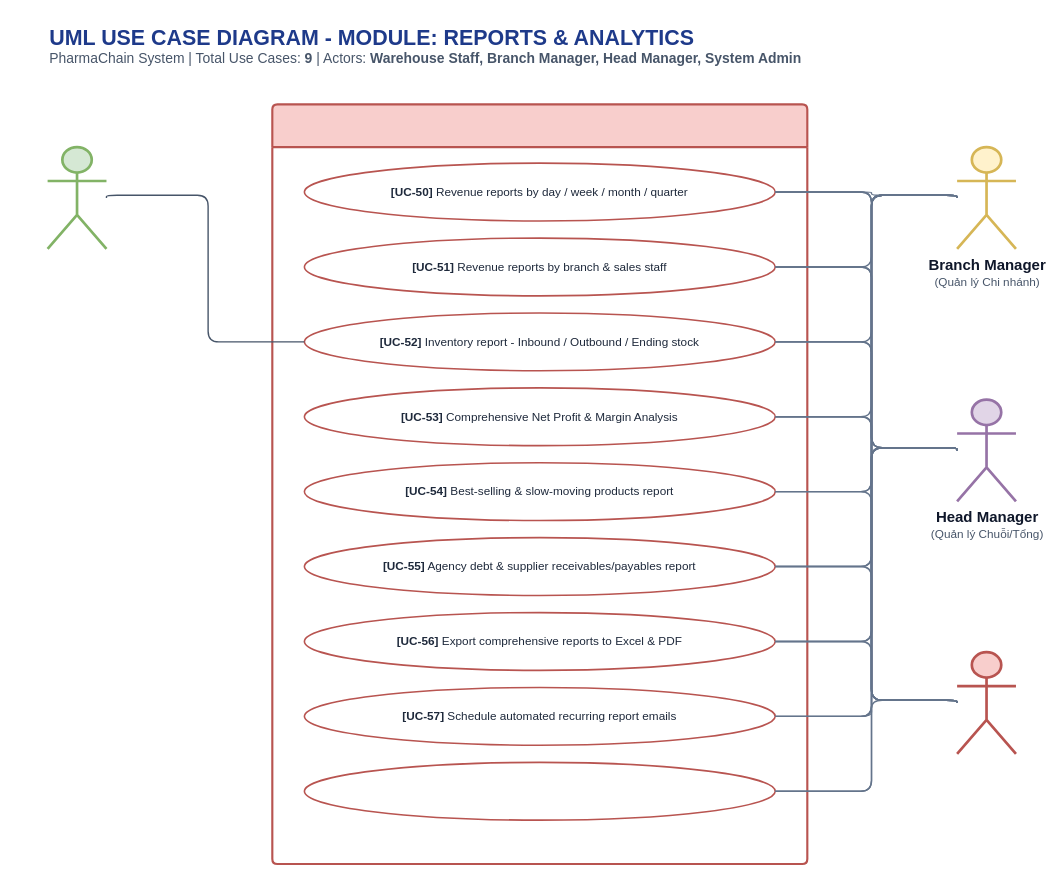
Some shapes in this 1064 by 883 pixel diagram are drawn without their labels. Each missing label, with the box of its shape:
[UC-148] Sales staff KPI & performance metrics report: (303, 761, 776, 820)
REPORTS & ANALYTICS SUBSYSTEM: (271, 103, 808, 865)
System Admin (Quản trị hệ thống): (955, 650, 1017, 755)
Warehouse Staff (Thủ kho): (46, 145, 107, 250)
